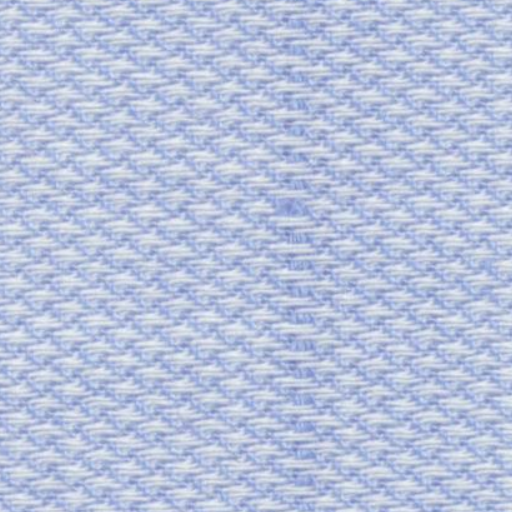TuoSha: (248, 10, 348, 502)
